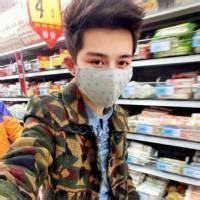face_mask: (76, 28, 134, 104)
